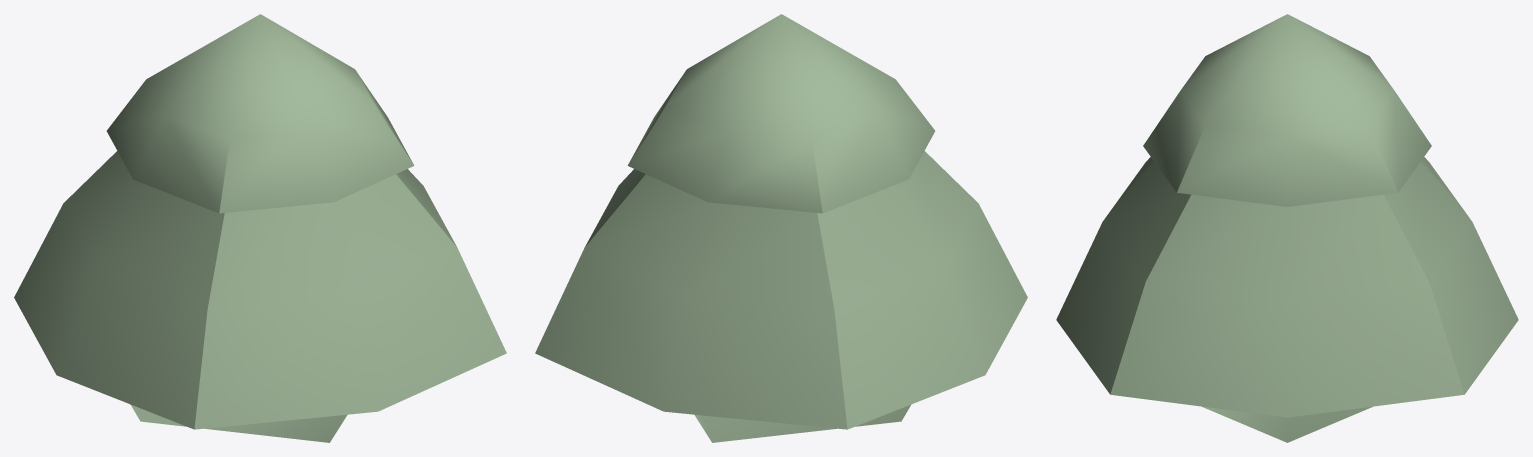
Rendered from Bush.fbx.
3 views of the same model, side by side, from view 1: azimuth 30°, elevation 25°; view 2: azimuth 150°, elevation 25°; view 3: azimuth 270°, elevation 25° (orthographic).
Parts seen in each view (by area): view 1: pCube1; view 2: pCube1; view 3: pCube1.
Boxes of the visible parts, bbox=[...] form: pCube1: bbox=[14, 14, 506, 442]; pCube1: bbox=[535, 14, 1027, 442]; pCube1: bbox=[1056, 14, 1518, 442].
Size of the model in its own units: 2 by 1.78 by 2.
